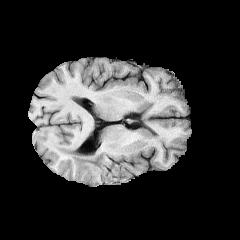glioma: (56, 146, 111, 171)
